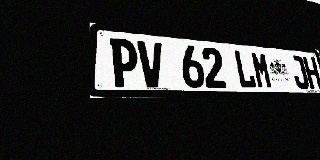2: (201, 47, 226, 88)
6: (179, 45, 206, 88)
H: (302, 56, 320, 89)
J: (289, 55, 310, 89)
L: (233, 50, 257, 88)
M: (250, 51, 273, 89)
P: (109, 38, 139, 87)
V: (137, 41, 165, 88)
